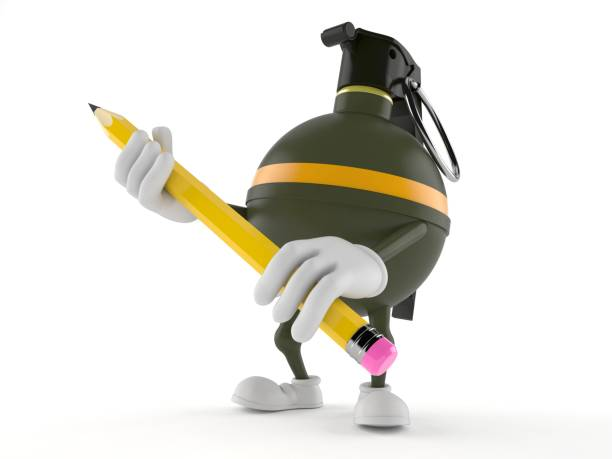e1: (243, 21, 459, 312)
